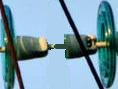gap: (1, 1, 116, 89)
